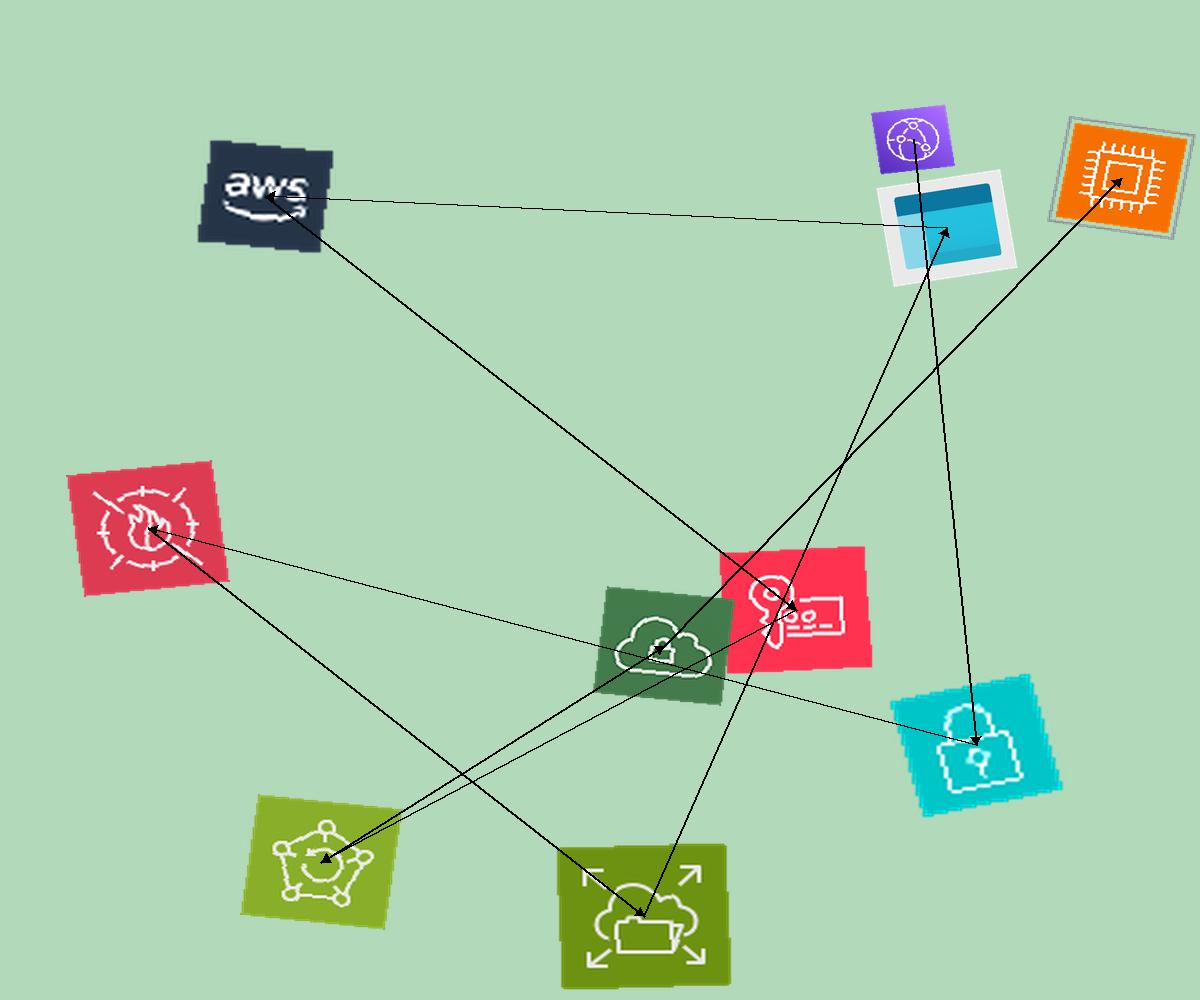AWS-Backup: (240, 794, 403, 930)
AWS-Category_Compute: (1046, 115, 1197, 241)
AWS-Cloud-logo: (195, 138, 336, 255)
AWS-CloudFront: (870, 104, 956, 175)
AWS-EFS: (555, 842, 733, 991)
AWS-Key-Management-Service: (718, 545, 874, 675)
AWS-Private-subnet: (887, 671, 1066, 820)
AWS-Private_vpc: (592, 586, 736, 706)
AWS-WAF: (66, 460, 230, 597)
Azure_management-portal: (876, 169, 1018, 287)
